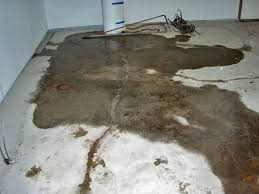Wet-floor: (46, 21, 249, 131), (129, 72, 259, 194)
